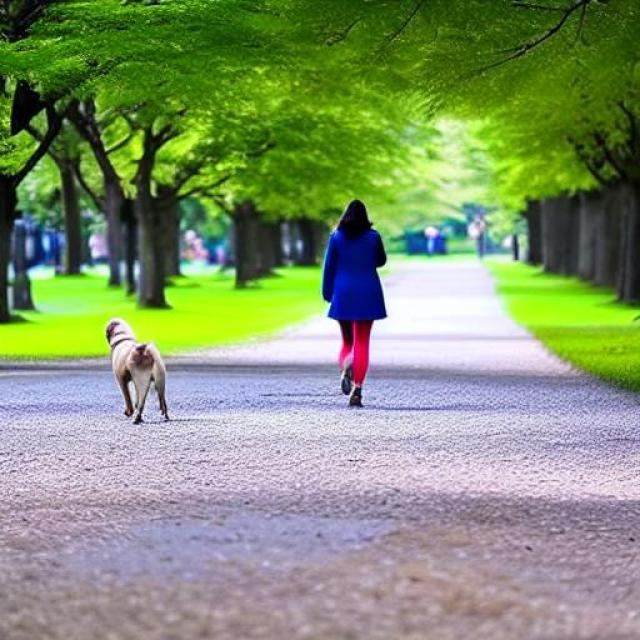Unleashed_Dog: (106, 318, 376, 424)
